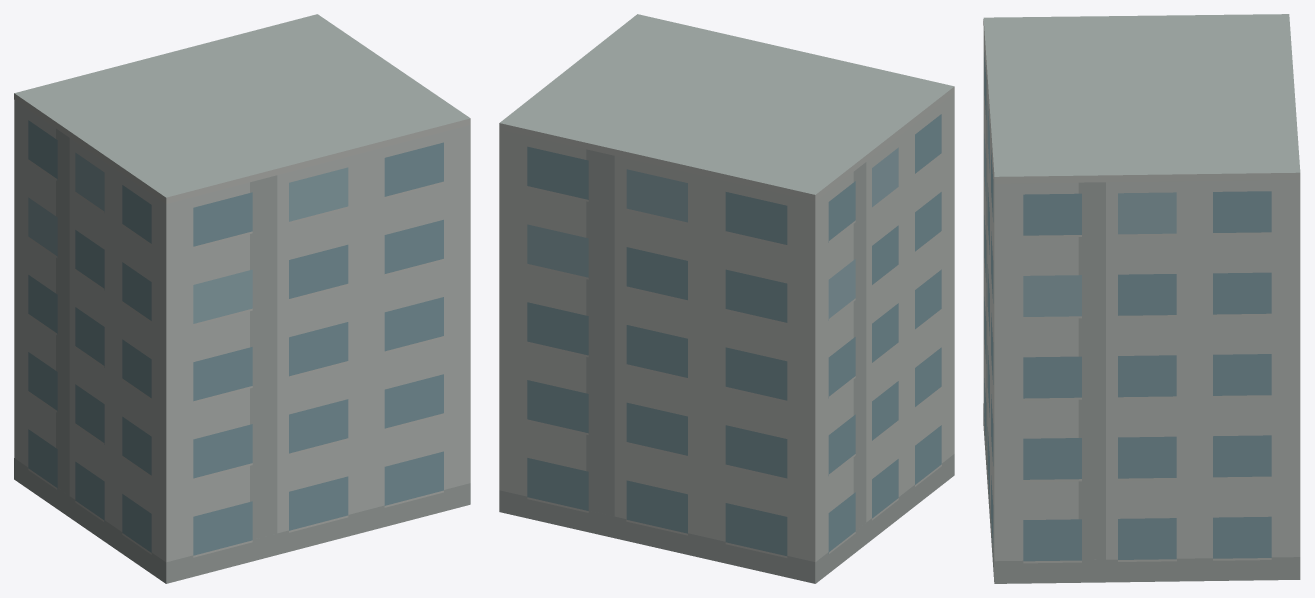
File: survey-upis-32881472.glb
The picture shows the model from 3 angles, left to right: view 1: azimuth 30°, elevation 25°; view 2: azimuth 150°, elevation 25°; view 3: azimuth 270°, elevation 25°; orthographic projection. The views are drawn at different scales.
Parts seen in each view (by area): view 1: survey-upis-32881472.tmp; view 2: survey-upis-32881472.tmp; view 3: survey-upis-32881472.tmp.
Boxes of the visible parts, x1=… form: survey-upis-32881472.tmp: x1=14, y1=14, x2=470, y2=583; survey-upis-32881472.tmp: x1=499, y1=14, x2=954, y2=583; survey-upis-32881472.tmp: x1=983, y1=14, x2=1300, y2=583.
Size of the model in its own units: 12.45 by 14.5 by 10.24.
